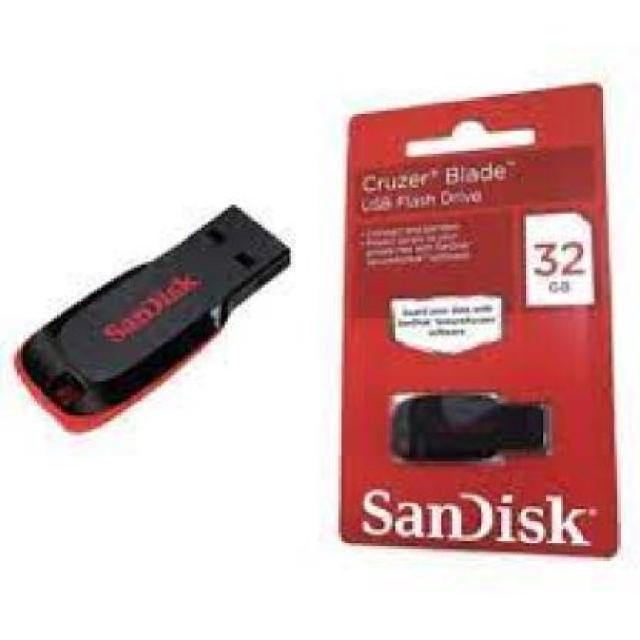Flashdisk: (10, 199, 292, 438)
